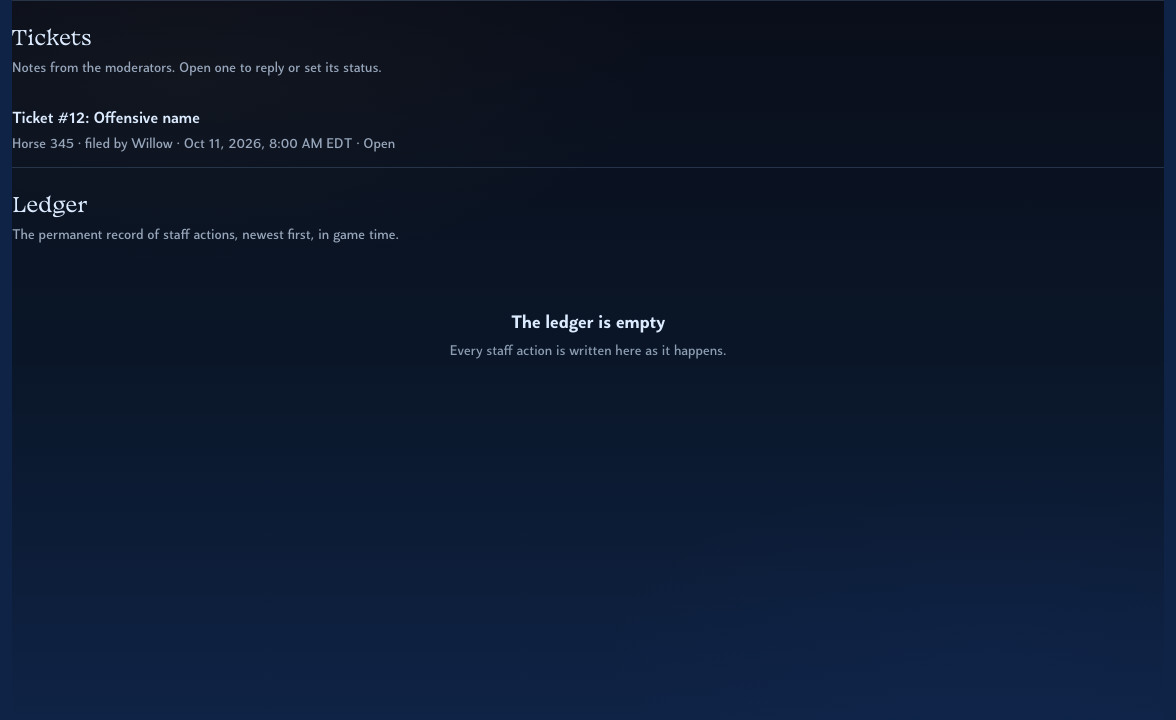
Test: A ticket reply refreshes the Ledger (STAFF-CR-15) › shows the reply in the open Ledger without a reload
Expected: the heading "The ledger is empty" is shown, [511,310,665,337]
Step 1. Click the text "Ticket #12: Offensive name" → (106, 119), box [12,107,200,131]
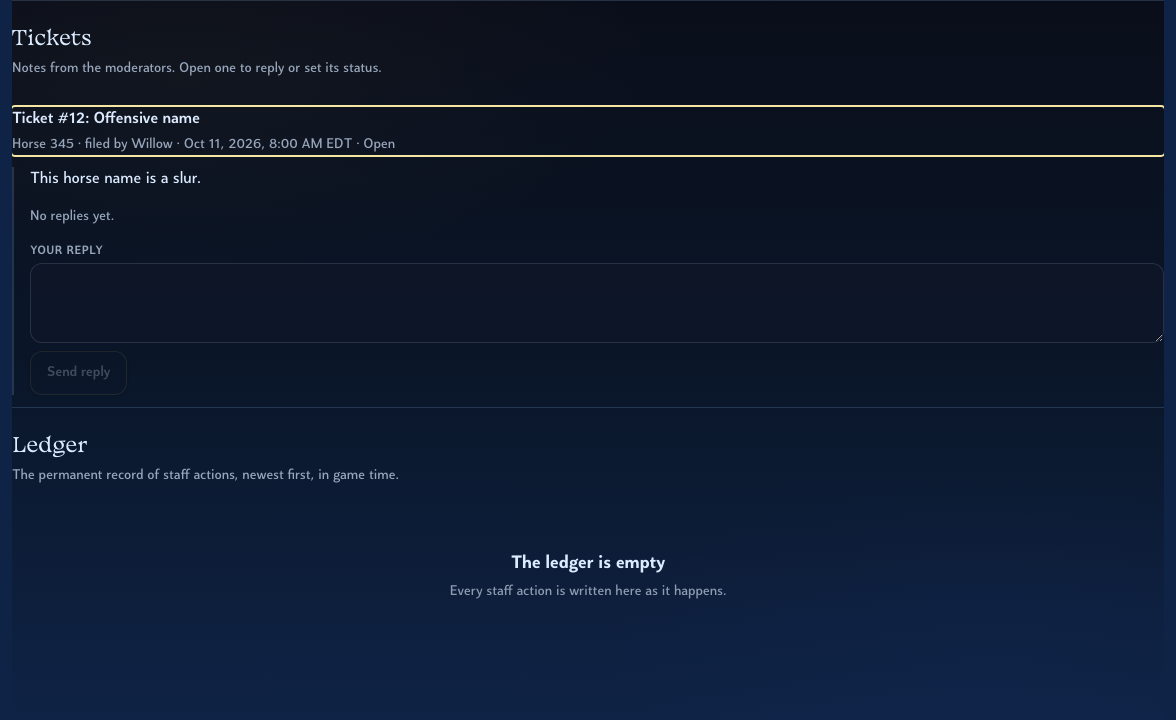
Step 2. Type "On it." into the text box labelled "Your reply" → (597, 303), box [30,263,1164,343]
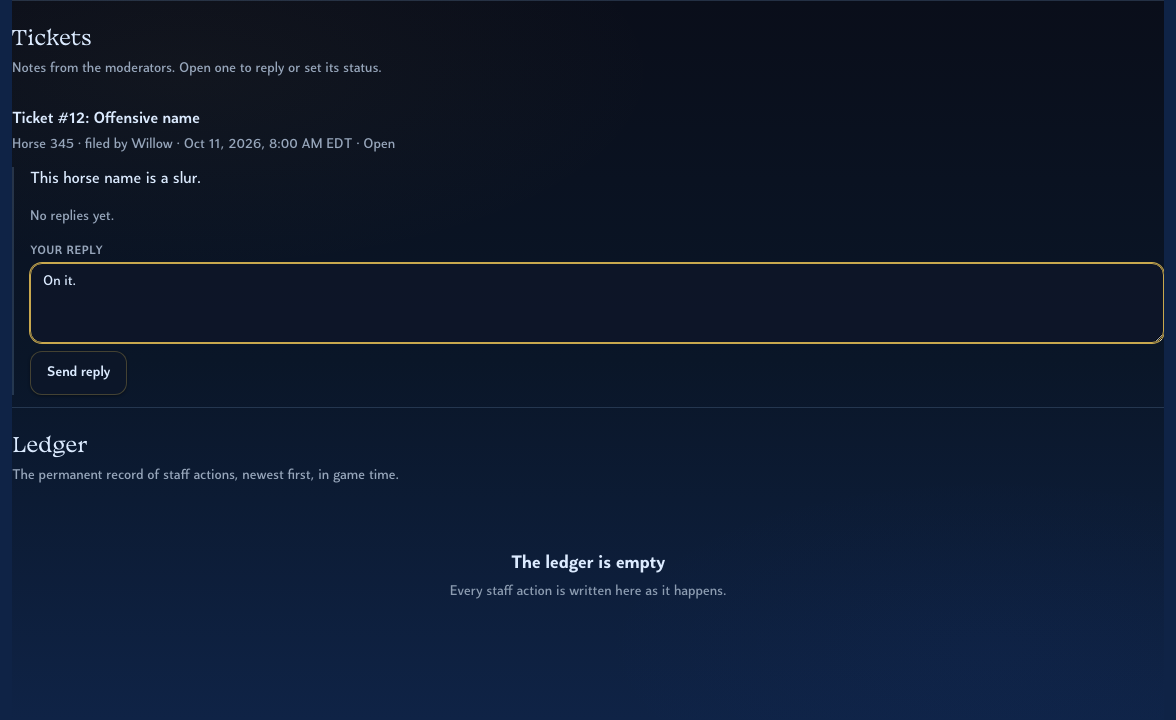
Step 3. Click the button "Send reply" → (79, 373), box [30,351,127,395]
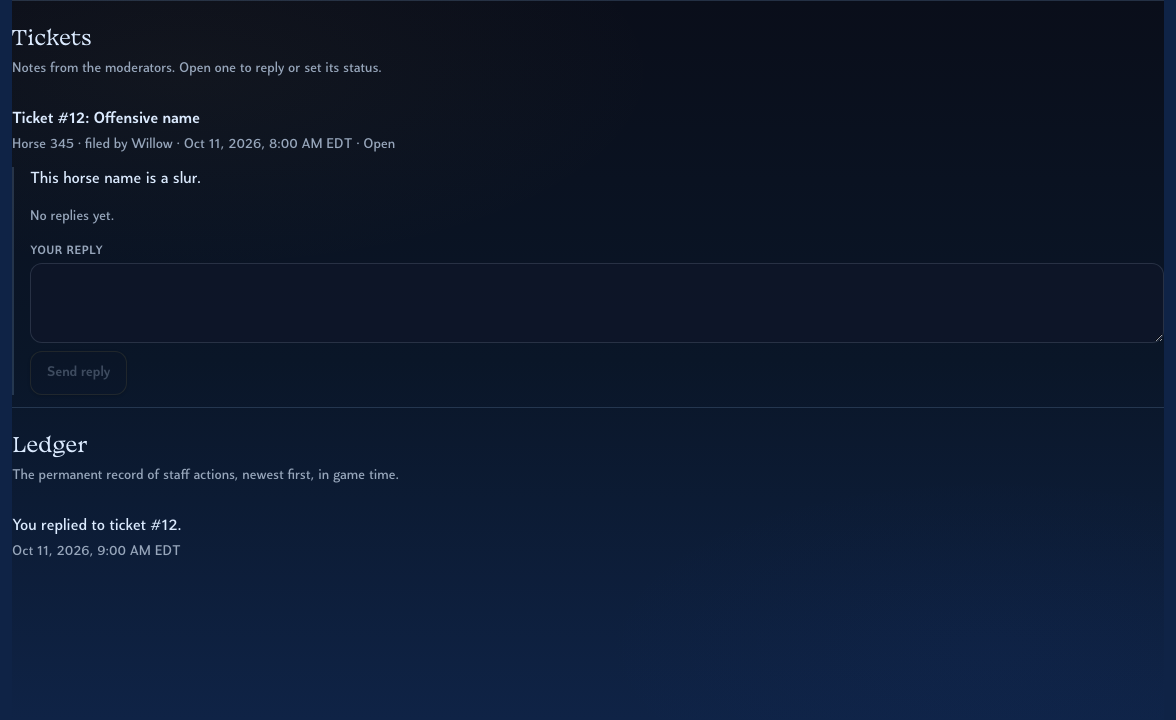
Now the text "You replied to ticket #12." is shown, box [12,518,182,534]
Now the heading "The ledger is empty" is gone
